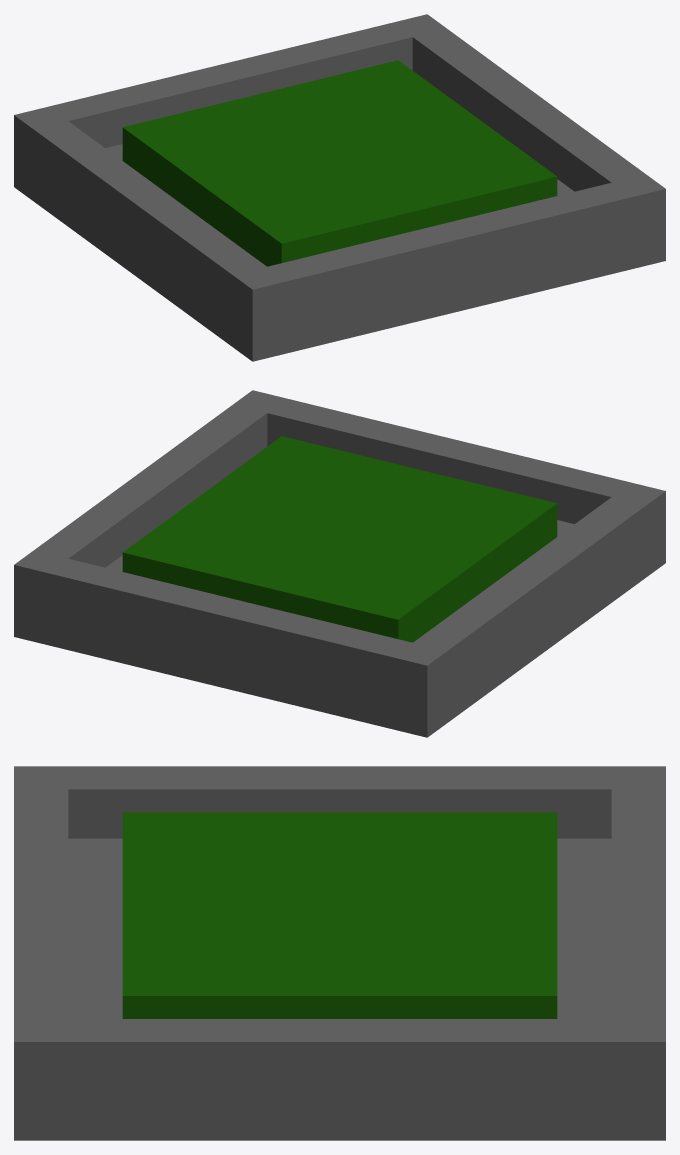
Rendered from tea_tray.gltf.
The picture shows the model from 3 angles, top to bottom: view 1: azimuth 30°, elevation 25°; view 2: azimuth 150°, elevation 25°; view 3: azimuth 270°, elevation 25°; orthographic projection. The views are drawn at different scales.
Visible parts, largest first — view 1: cube (×4), tea, tray_base; view 2: cube (×4), tea, tray_base; view 3: cube (×4), tea, tray_base.
Boxes of the visible parts, box(x1,y1,x2,y2) form: cube (×4): box(14, 14, 665, 325); tea: box(122, 60, 557, 266); tray_base: box(14, 144, 665, 361); cube (×4): box(14, 390, 665, 701); tea: box(122, 436, 557, 642); tray_base: box(14, 520, 665, 737); cube (×4): box(14, 766, 665, 1091); tea: box(122, 812, 557, 1018); tray_base: box(14, 838, 665, 1140).
Size of the model in its own units: 0.75 by 0.125 by 0.75.
2 materials, 2 textured.
